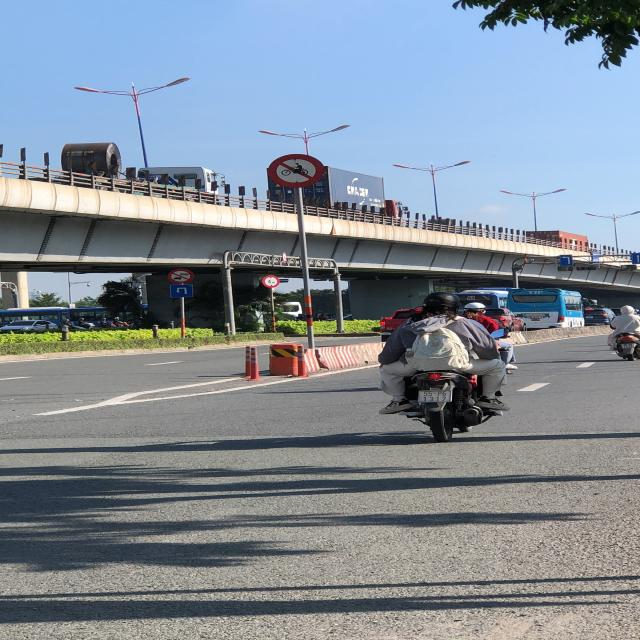Bien bao cam xe may: (264, 152, 330, 188)
